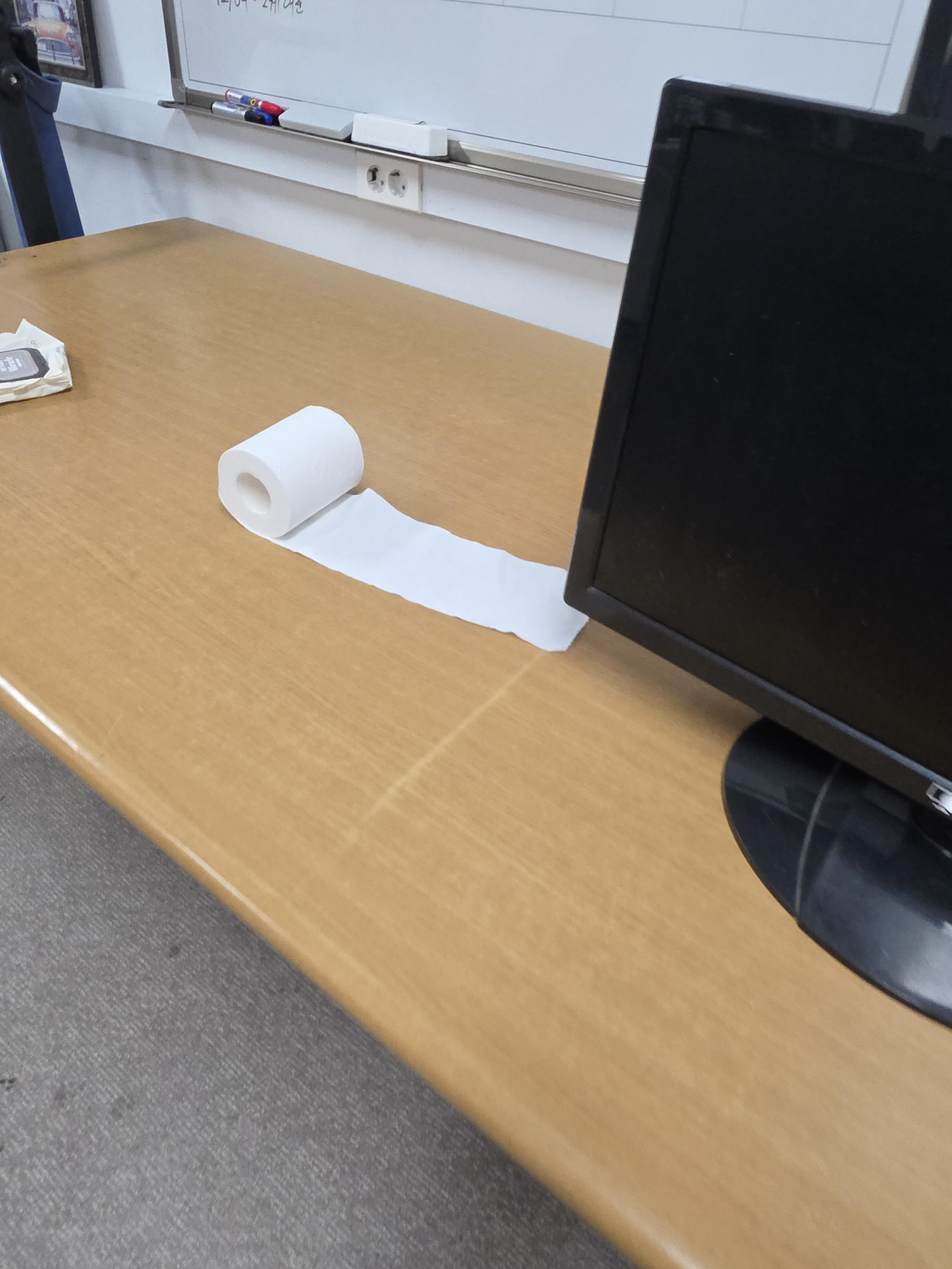tissue: (217, 405, 589, 653)
